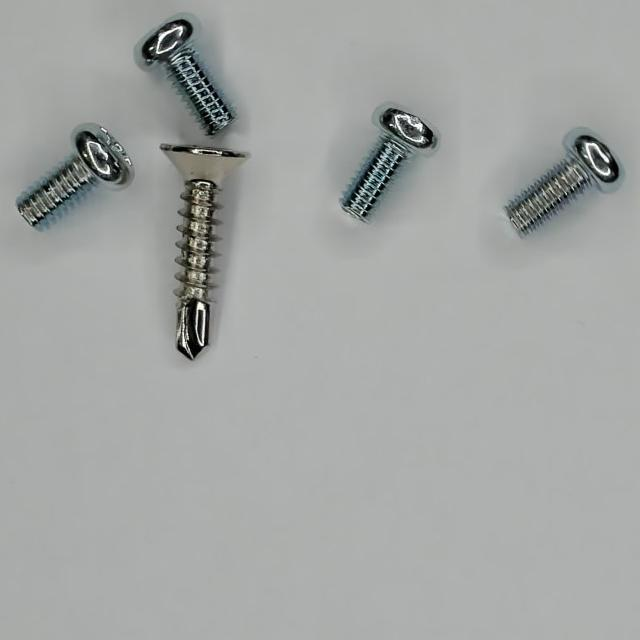Screw: (160, 144, 249, 360), (506, 128, 623, 236), (17, 123, 134, 226), (341, 107, 438, 220), (141, 18, 234, 134)
